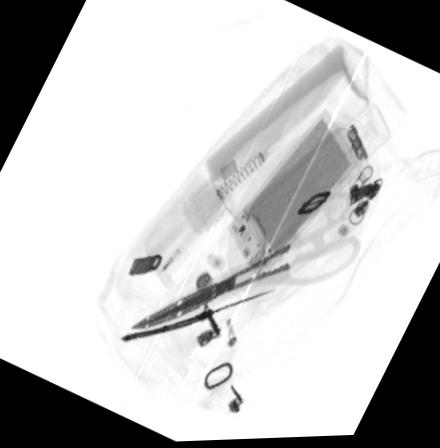Knife: (118, 285, 278, 344)
Powerbank: (225, 108, 363, 282)
Scissors: (124, 195, 360, 333)
Sprayer: (247, 106, 391, 255)
